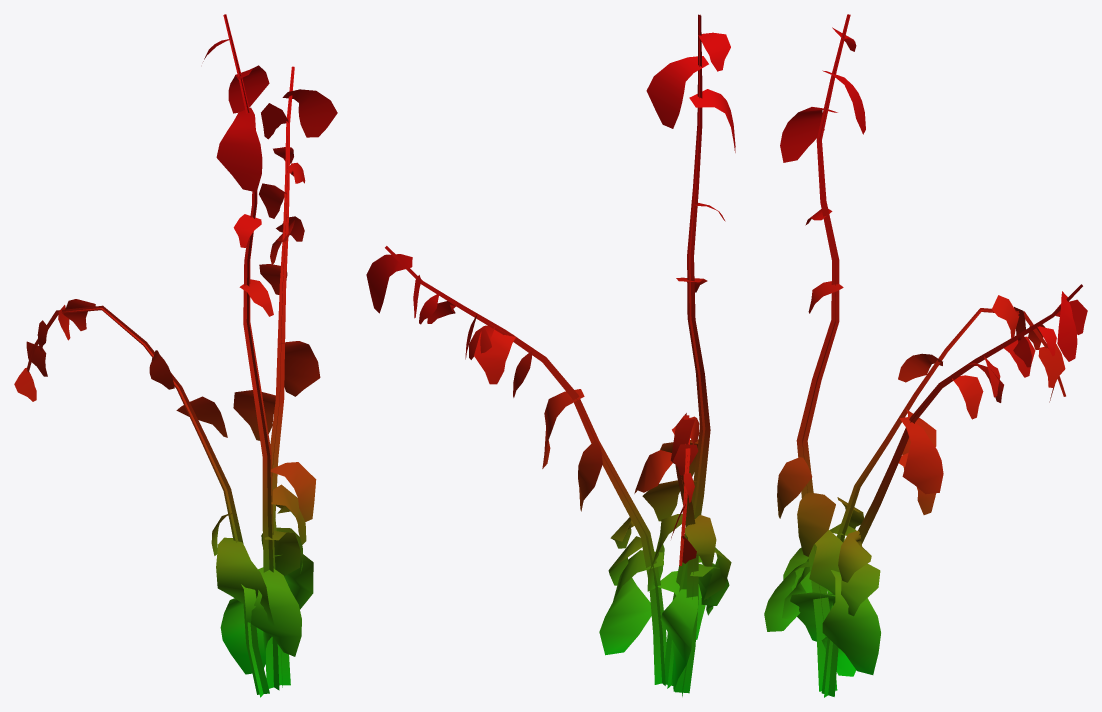
The model's file is Var5_LOD1.fbx.
The picture shows the model from 3 angles, left to right: view 1: azimuth 30°, elevation 25°; view 2: azimuth 150°, elevation 25°; view 3: azimuth 270°, elevation 25°; orthographic projection. The views are drawn at different scales.
Parts seen in each view (by area): view 1: _030b_Var5_LOD1; view 2: _030b_Var5_LOD1; view 3: _030b_Var5_LOD1.
Part boxes in pixels (x1=…): _030b_Var5_LOD1: x1=14, y1=14, x2=337, y2=697; _030b_Var5_LOD1: x1=366, y1=14, x2=735, y2=696; _030b_Var5_LOD1: x1=764, y1=14, x2=1087, y2=697.
Size of the model in its own units: 32.48 by 65.3 by 28.81.
